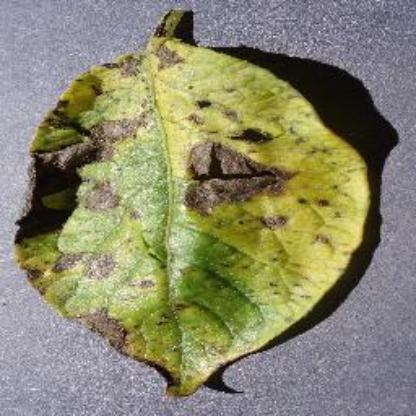Early-Blight: (13, 16, 376, 396)
